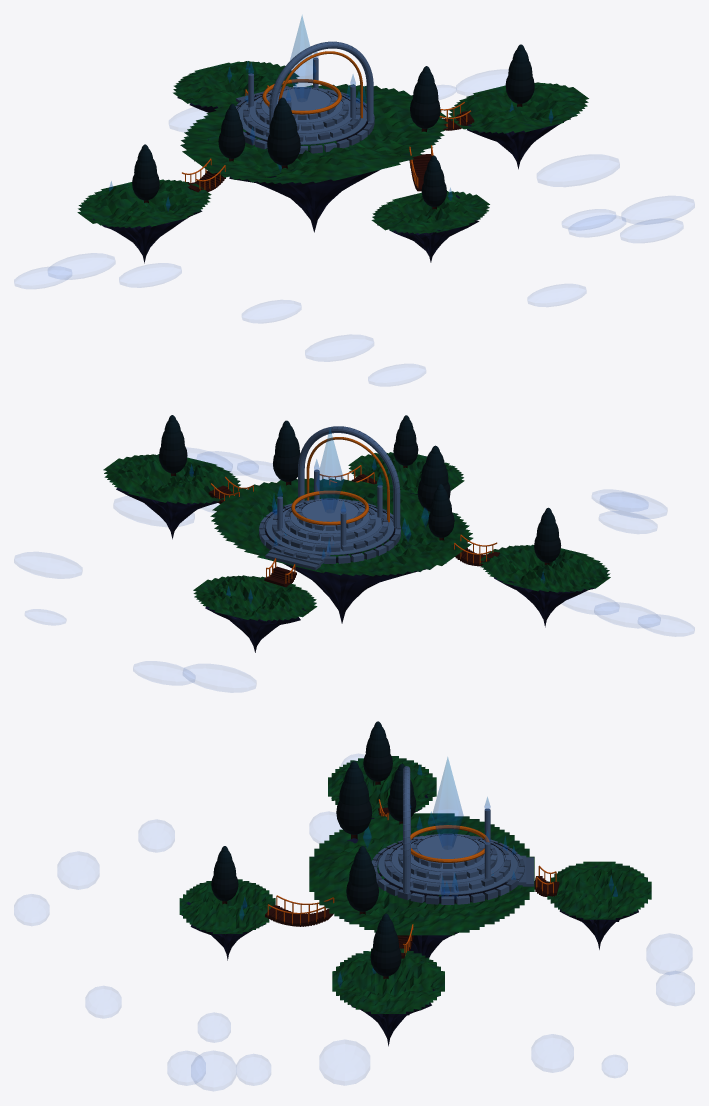
Rendered from sky_sanctuary_teacher_scene.obj.
The picture shows the model from 3 angles, top to bottom: view 1: azimuth 30°, elevation 25°; view 2: azimuth 150°, elevation 25°; view 3: azimuth 270°, elevation 25°; orthographic projection. The views are drawn at different scales.
Bounding box in the file's own units: 17.99 × 5.91 × 16.31.
